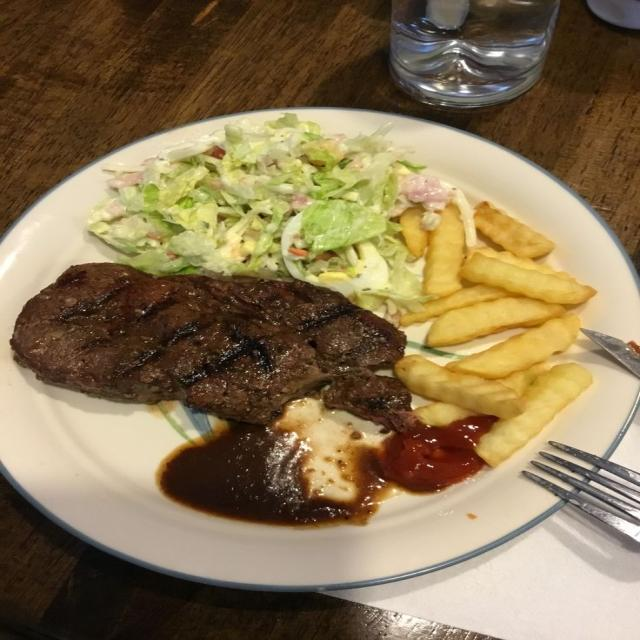beef steak: (10, 263, 412, 429)
lettuce: (88, 114, 475, 315), (302, 199, 386, 252)
potato fries: (476, 363, 591, 466), (448, 314, 578, 379), (395, 356, 523, 418), (461, 253, 595, 304), (426, 297, 563, 346), (401, 284, 509, 325), (475, 203, 554, 257), (423, 204, 464, 297), (471, 247, 574, 279), (414, 402, 477, 426), (399, 208, 427, 257)
